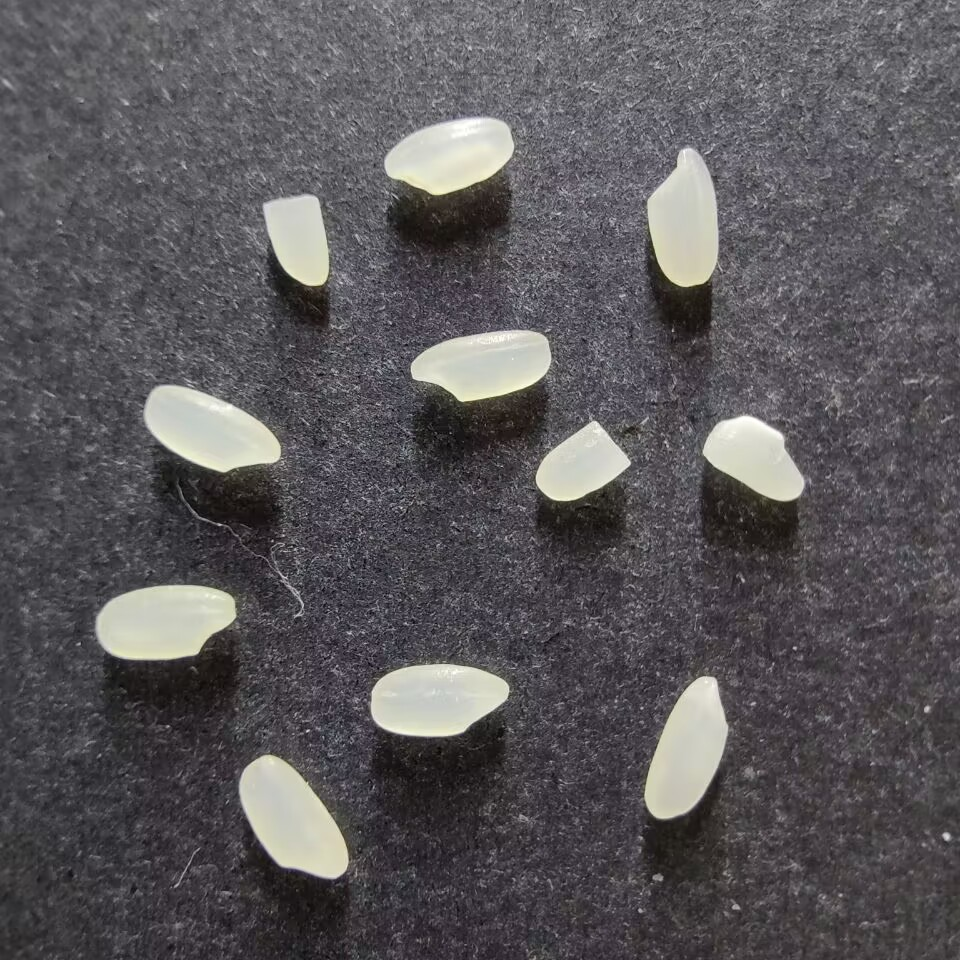broken: (703, 415, 806, 502), (535, 419, 632, 501), (263, 194, 330, 287)
rice: (238, 753, 349, 878), (644, 675, 729, 819), (144, 384, 282, 472), (96, 584, 237, 660), (370, 663, 510, 737), (384, 117, 515, 196), (646, 147, 720, 286), (410, 329, 552, 401)
